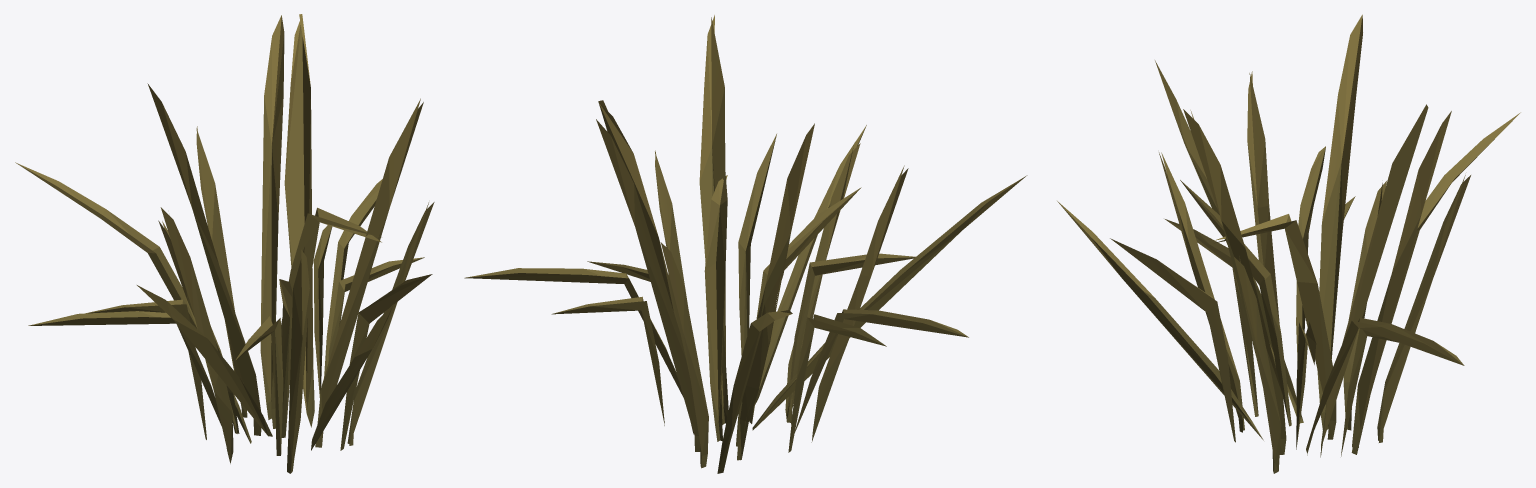
Rendered from DressGrass.glb.
3 renders of one model, left to right at view 1: azimuth 30°, elevation 25°; view 2: azimuth 150°, elevation 25°; view 3: azimuth 270°, elevation 25°, orthographic. The views are drawn at different scales.
Visible parts, largest first — view 1: DressGrass; view 2: DressGrass; view 3: DressGrass.
Part boxes in pixels (left/top/right/bottom): DressGrass: left=15, top=14, right=434, bottom=473; DressGrass: left=464, top=15, right=1027, bottom=473; DressGrass: left=1057, top=14, right=1520, bottom=473.
Bounding box in the file's own units: 0.6068 × 0.4997 × 0.5384.
